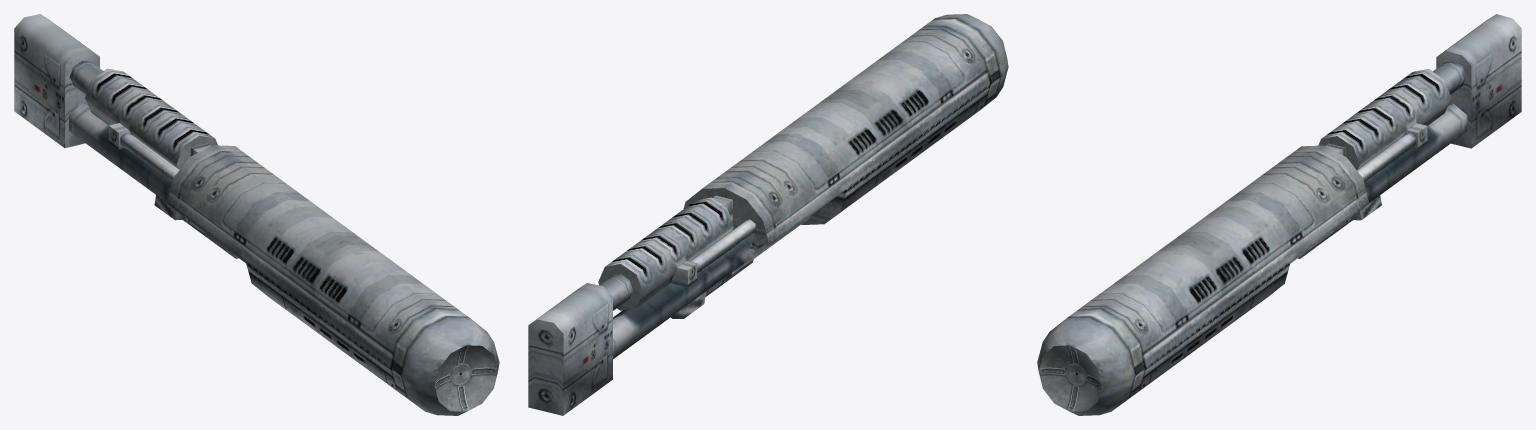
File: xwing_weapon_neg_s02_l0.fbx
3 renders of one model, left to right at view 1: azimuth 30°, elevation 25°; view 2: azimuth 150°, elevation 25°; view 3: azimuth 330°, elevation 25°, orthographic.
Visible parts, largest first — view 1: mesh_node; view 2: mesh_node; view 3: mesh_node.
Boxes of the visible parts, x1,y1,x2,y2 form: mesh_node: (14, 14, 499, 415); mesh_node: (528, 14, 1008, 415); mesh_node: (1037, 14, 1521, 415).
Bounding box in the file's own units: 0.6667 × 0.6667 × 5.53.
